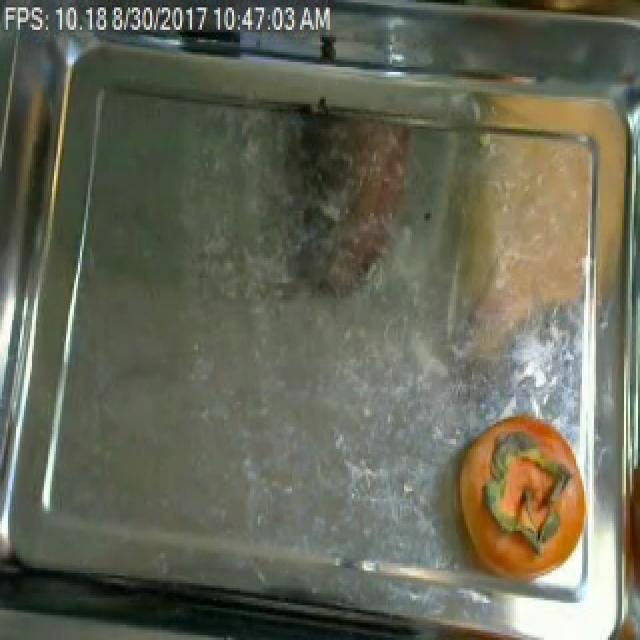Fruit: (448, 119, 612, 380), (446, 404, 594, 593)
